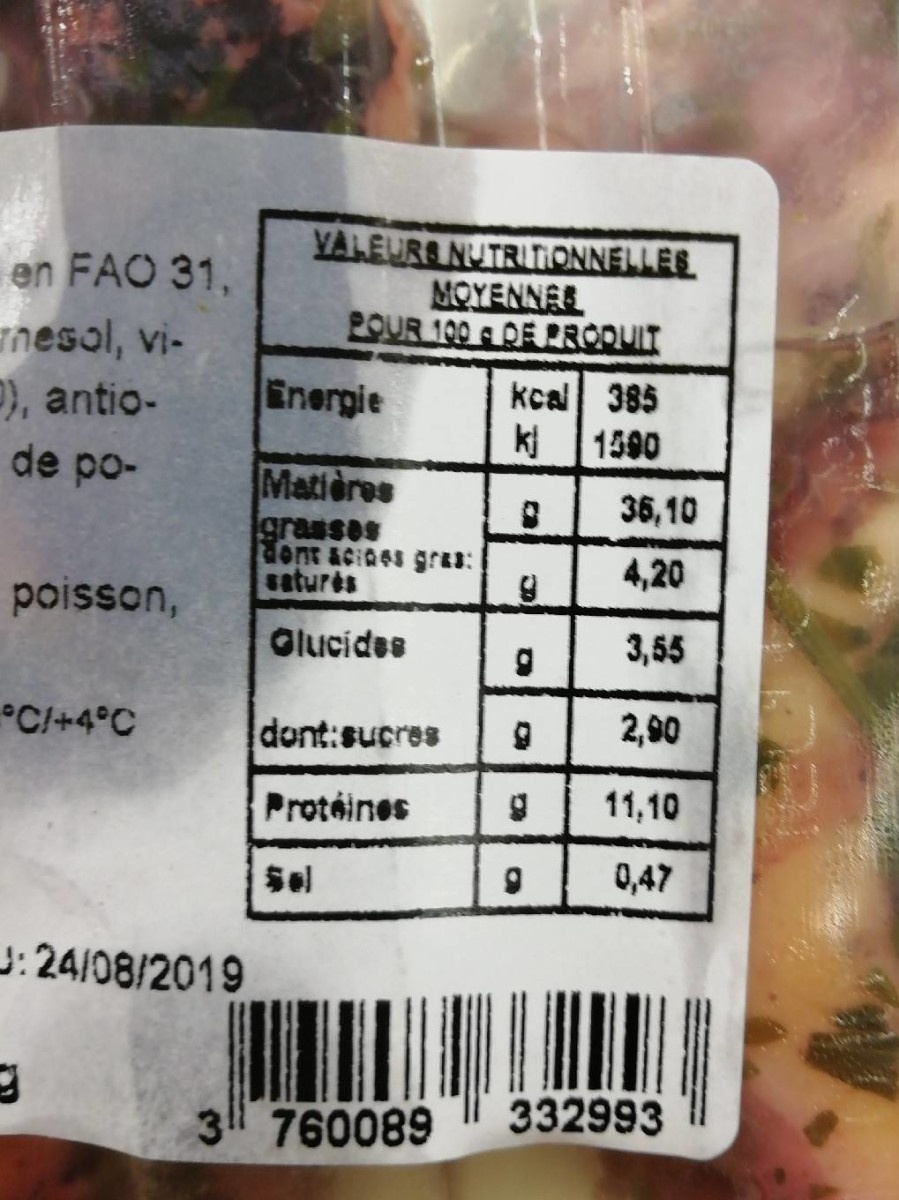column: (261, 370, 475, 895), (591, 381, 694, 889), (505, 380, 572, 896)
table: (242, 201, 742, 928)
